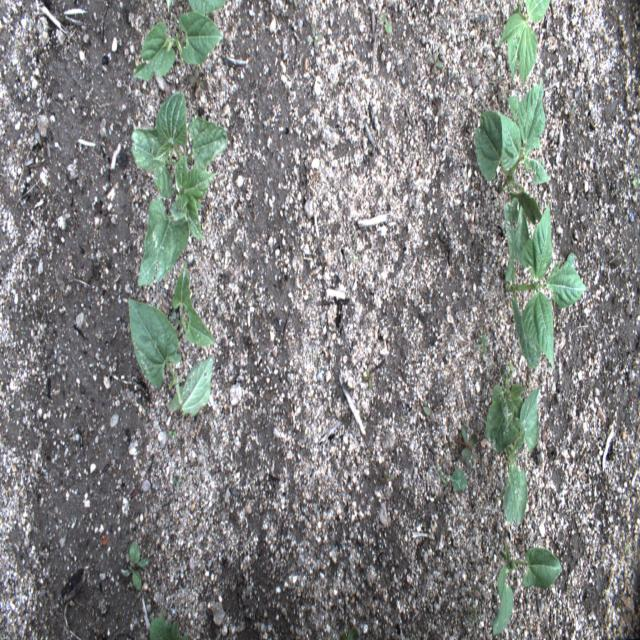crop: (133, 89, 230, 293), (500, 198, 590, 370), (470, 72, 551, 227), (127, 293, 216, 419), (482, 360, 542, 531), (131, 0, 229, 86), (490, 543, 564, 637), (498, 0, 554, 81), (173, 258, 220, 351), (147, 607, 186, 636)
weed: (118, 538, 154, 590), (458, 419, 482, 479), (377, 0, 397, 49), (376, 460, 398, 500), (442, 464, 468, 495), (426, 47, 446, 83), (305, 27, 327, 57), (187, 69, 213, 94), (472, 329, 490, 364), (419, 398, 438, 430), (624, 170, 640, 204), (563, 102, 582, 126), (165, 419, 184, 441), (167, 470, 187, 489), (363, 366, 377, 389)
